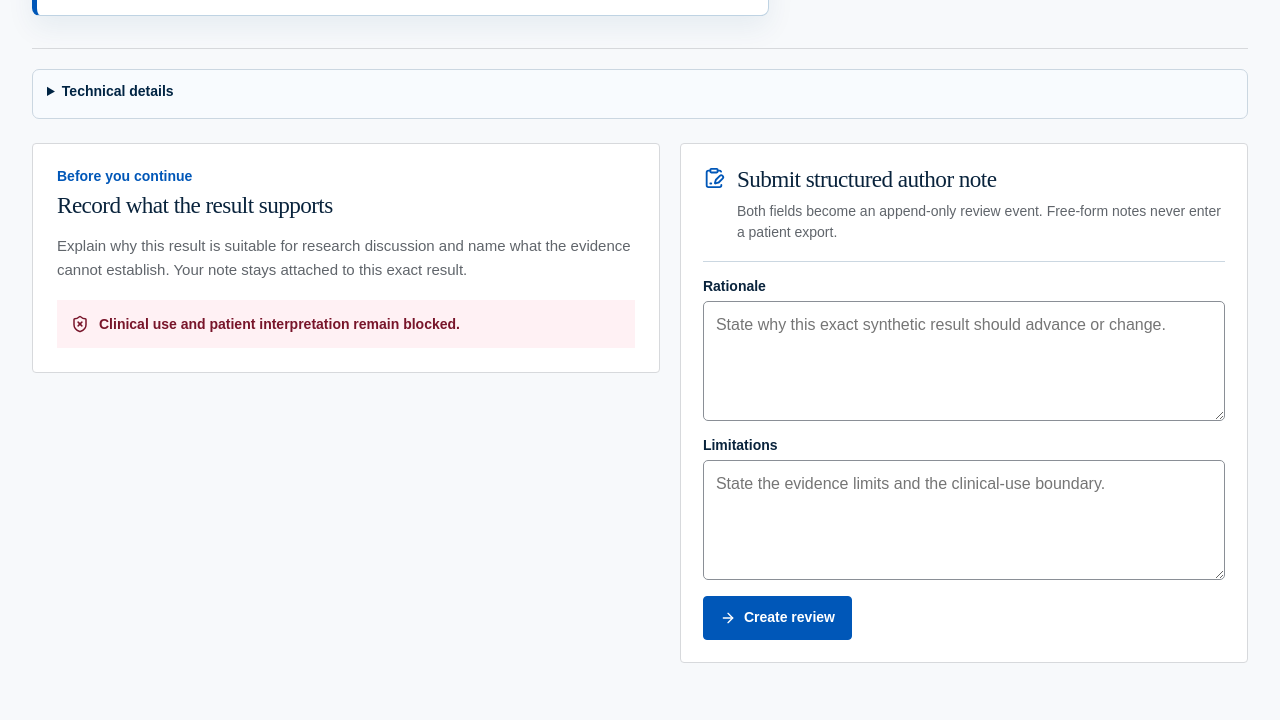
exact result review workflow › creates a review from one exact immutable run and attempt with structured notes
The image size is (1280, 720).
(page scrolled)
expect the text "Technical details" is shown: met, box [32,69,1248,119]
Step 1. Type "Suitable for a synthetic research discussion." into the text box labelled "Rationale" → (964, 361), box [703,301,1225,421]
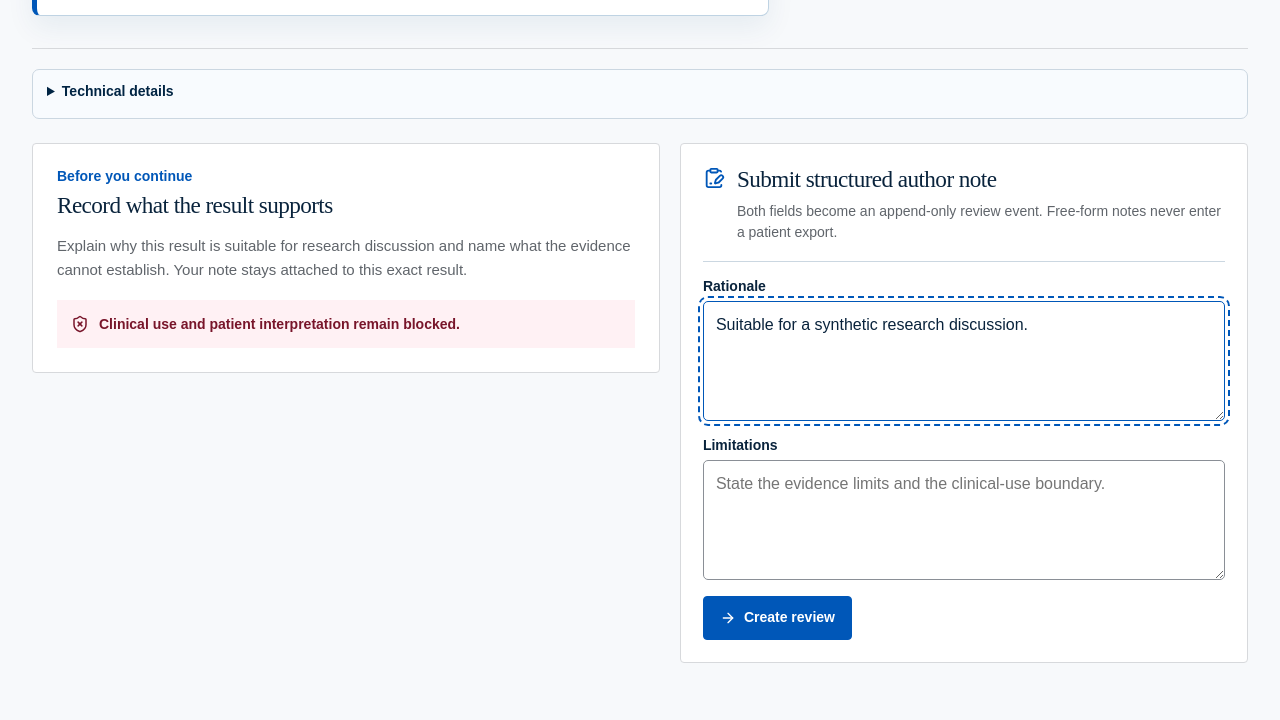
Step 2. Type "No human gaze, patient, or clinical inference." into the text box labelled "Limitations" → (964, 520), box [703,460,1225,580]
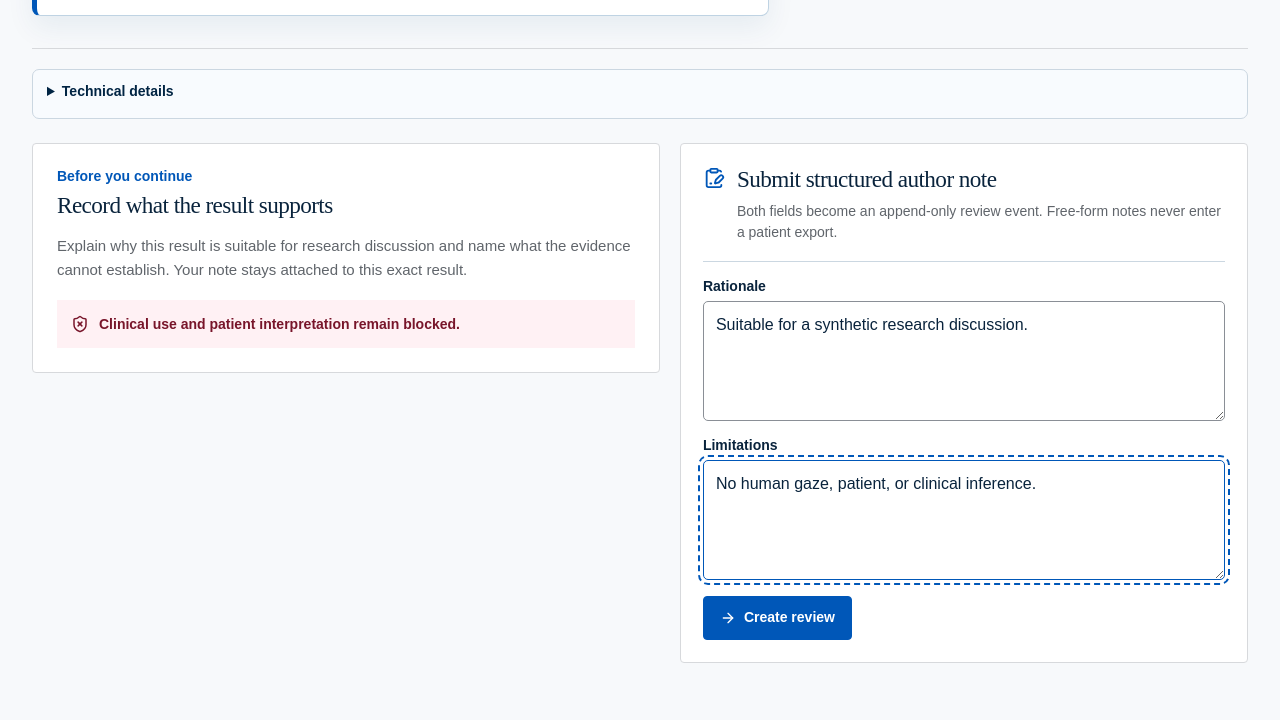
Step 3. Click the button "Create review" → (777, 618), box [703,596,852,640]
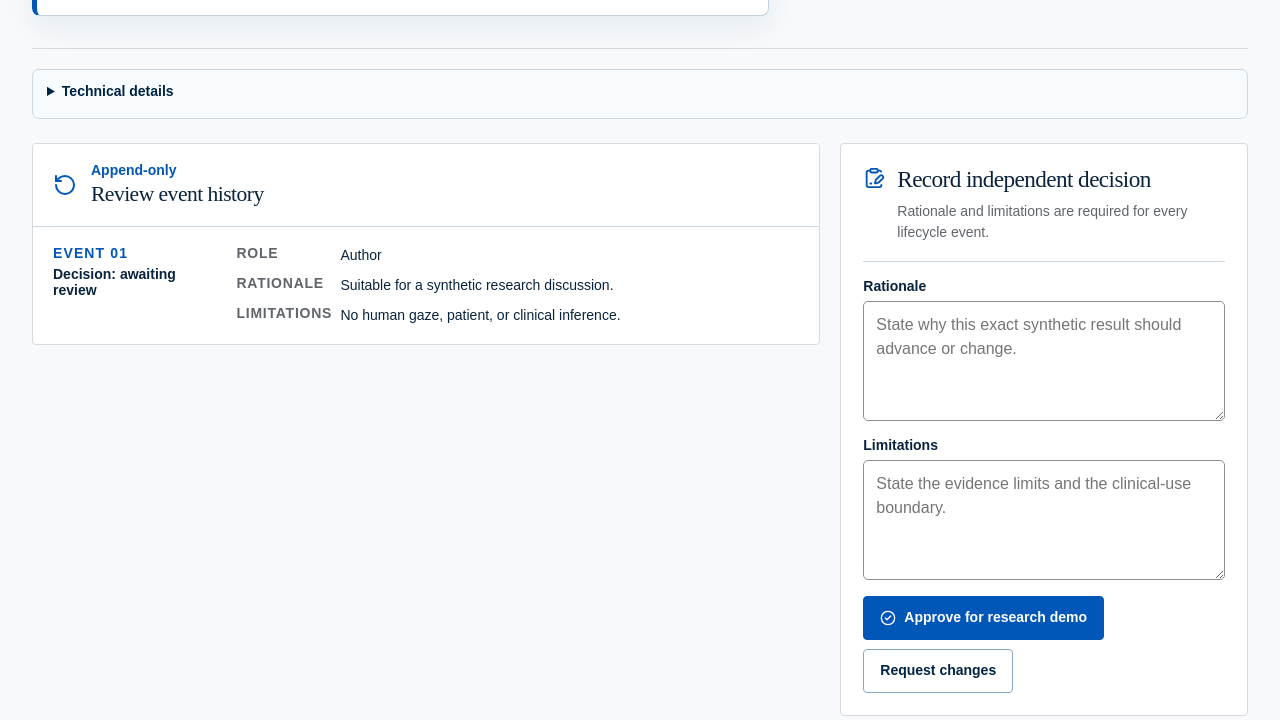
expect the text "Suitable for a synthetic research discussion." is shown: met, box [340,277,614,293]
